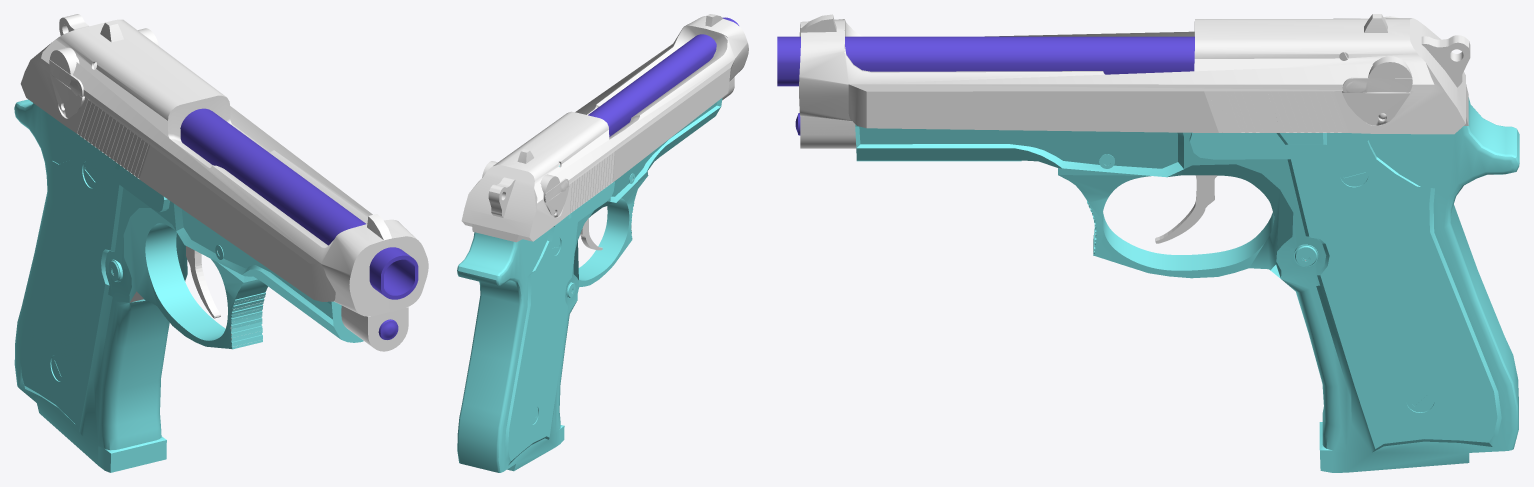
Rendered from gun2.gltf.
3 renders of one model, left to right at view 1: azimuth 30°, elevation 25°; view 2: azimuth 150°, elevation 25°; view 3: azimuth 270°, elevation 25°, orthographic. The views are drawn at different scales.
Visible parts, largest first — view 1: shita, ue, Cylinder_Cylinder.001, Plane; view 2: shita, ue, Cylinder_Cylinder.001; view 3: shita, ue, Cylinder_Cylinder.001, Plane.
Boxes of the visible parts, <box> form: shita: <box>14,99,363,472</box>; ue: <box>20,14,428,351</box>; Cylinder_Cylinder.001: <box>180,108,418,299</box>; Plane: <box>186,246,220,318</box>; shita: <box>457,98,722,472</box>; ue: <box>461,14,748,242</box>; Cylinder_Cylinder.001: <box>588,17,738,136</box>; shita: <box>855,97,1519,472</box>; ue: <box>799,14,1470,148</box>; Cylinder_Cylinder.001: <box>777,36,1194,86</box>; Plane: <box>1155,175,1217,243</box>.
Bounding box in the file's own units: 0.7692 × 3.24 × 4.93.
